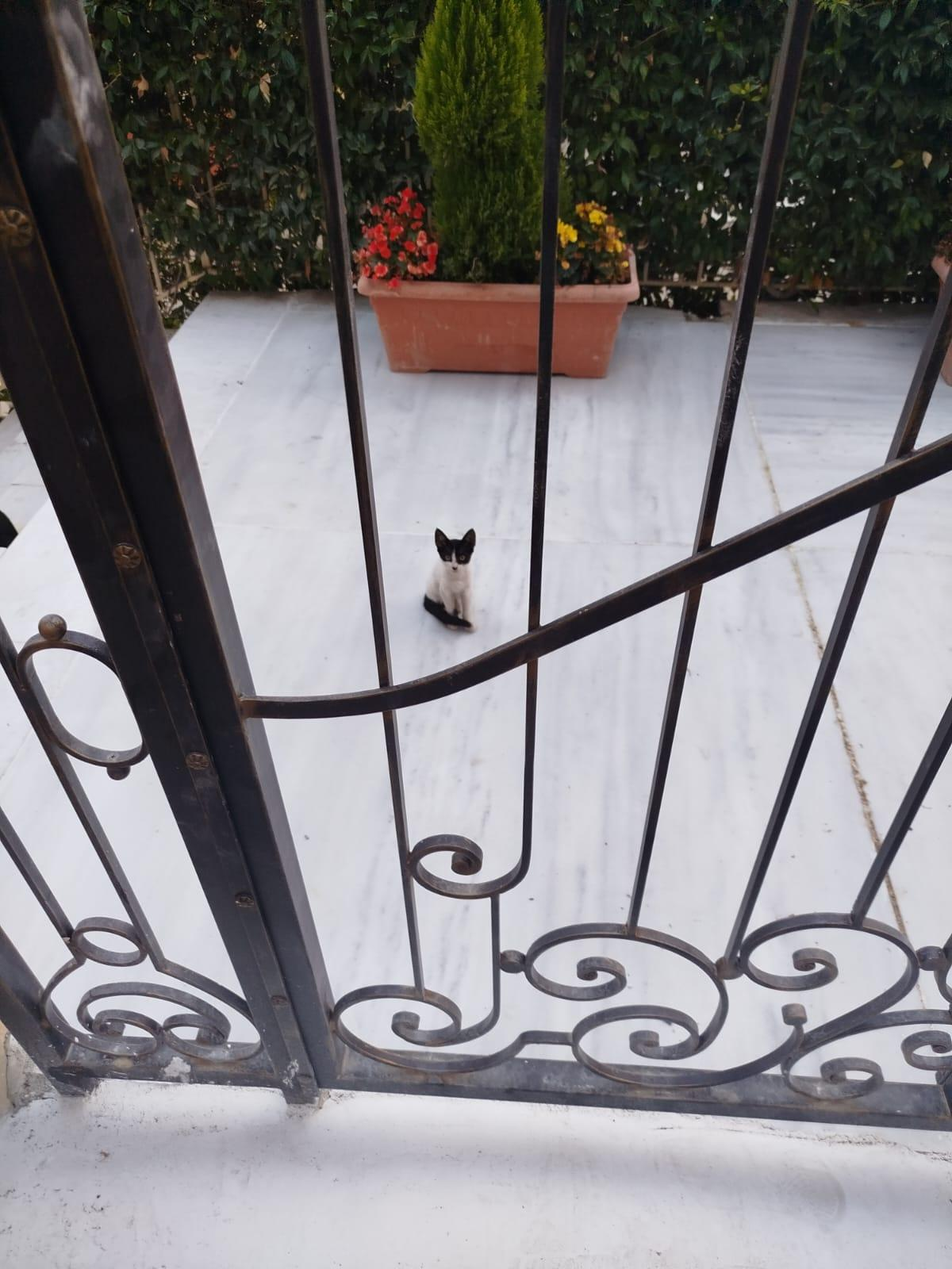macka: (424, 527, 478, 630)
